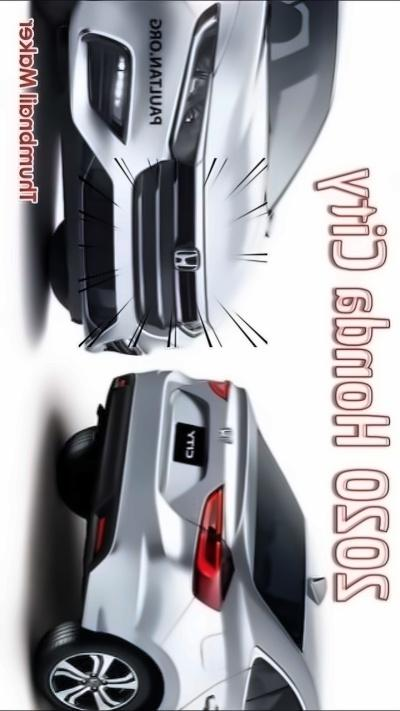Car boot: (155, 370, 262, 582)
Car hood: (192, 0, 280, 345)
Fender - -R-R-: (143, 597, 256, 711)
Front bumper: (51, 0, 184, 368)
Headlight - -L-: (172, 302, 211, 345)
Headlight - -R-: (165, 0, 226, 168)
Rear bumper: (75, 368, 199, 655)
Rear light - -L-: (202, 372, 239, 413)
Rear light - -R-: (186, 478, 234, 619)
